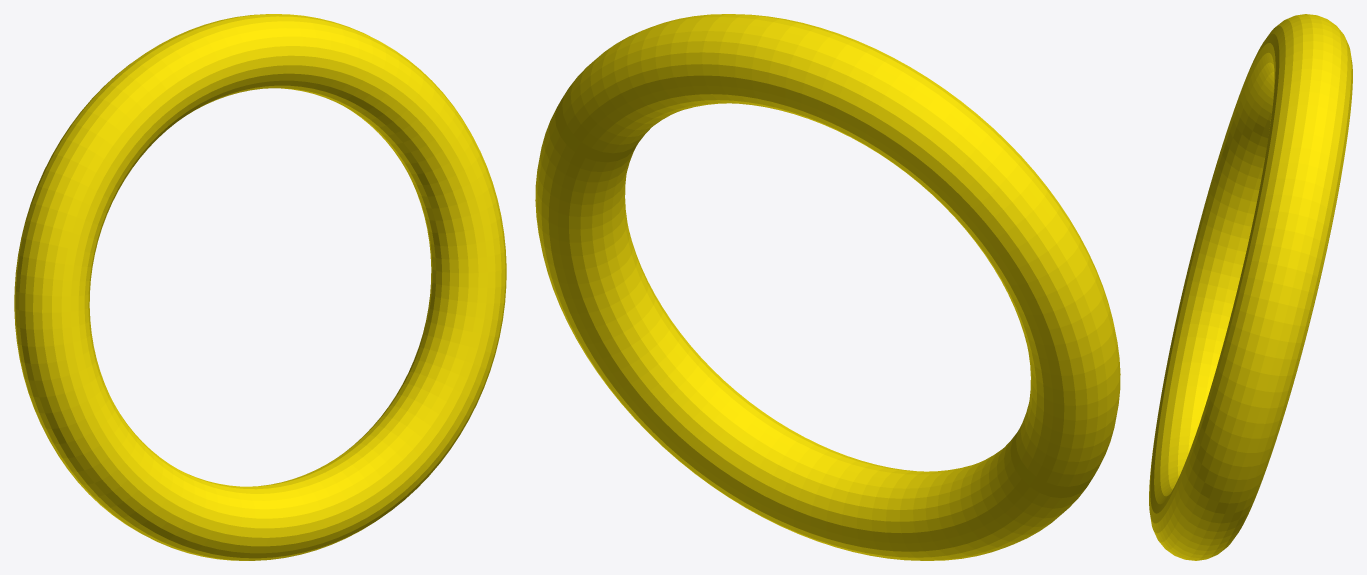
File: ring.fbx
3 renders of one model, left to right at view 1: azimuth 30°, elevation 25°; view 2: azimuth 150°, elevation 25°; view 3: azimuth 270°, elevation 25°, orthographic. The views are drawn at different scales.
Parts seen in each view (by area): view 1: Torus; view 2: Torus; view 3: Torus.
Boxes of the visible parts, x1,y1,x2,y2 form: Torus: (14, 14, 506, 560); Torus: (535, 14, 1120, 560); Torus: (1149, 14, 1352, 560).
Size of the model in its own units: 226 by 219 by 82.2.
